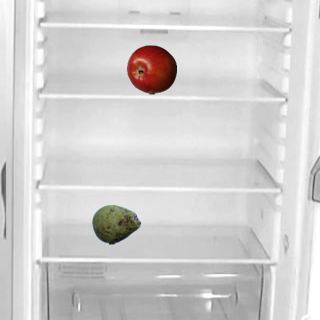Apple Braeburn: (126, 44, 176, 94)
Pear Stone: (91, 199, 141, 249)
